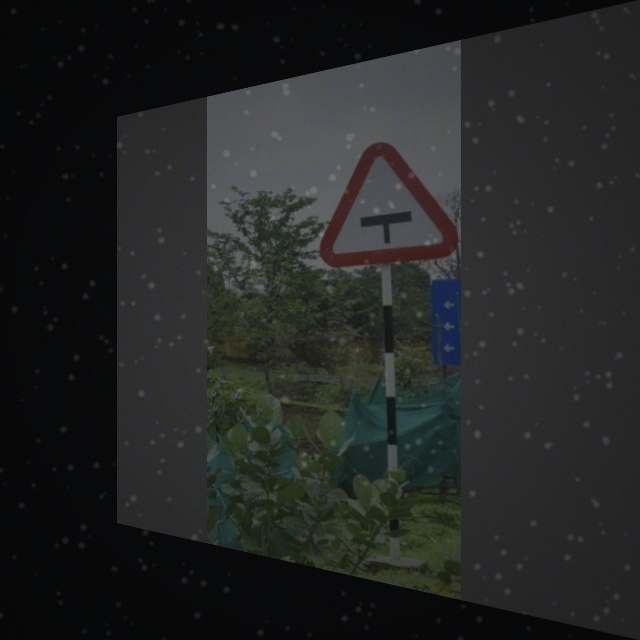T_Intersection: (326, 130, 451, 262)
